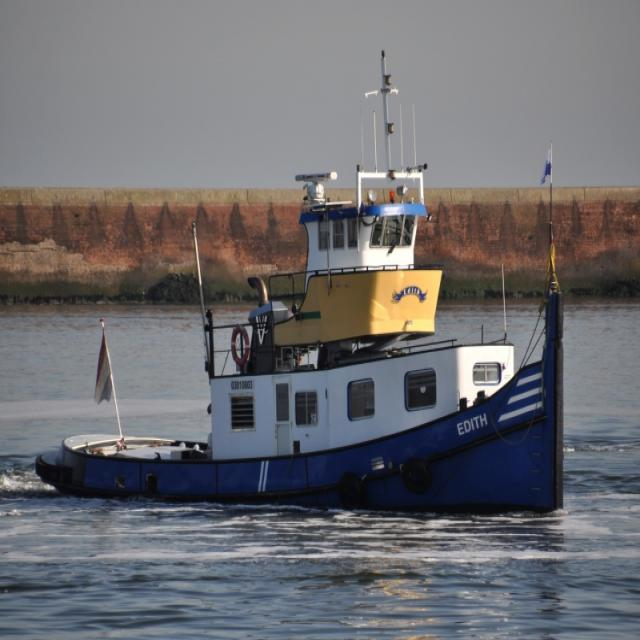tugboat: (31, 162, 571, 526)
